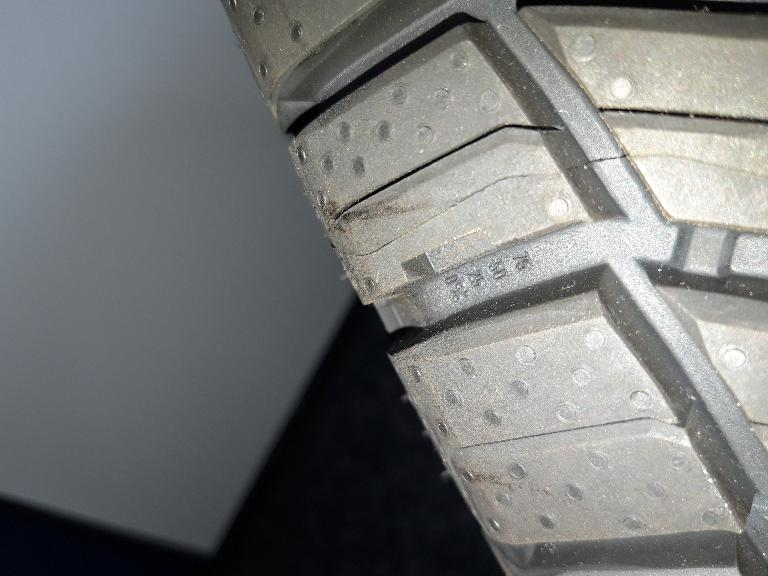temoin:100: (398, 226, 522, 285)
